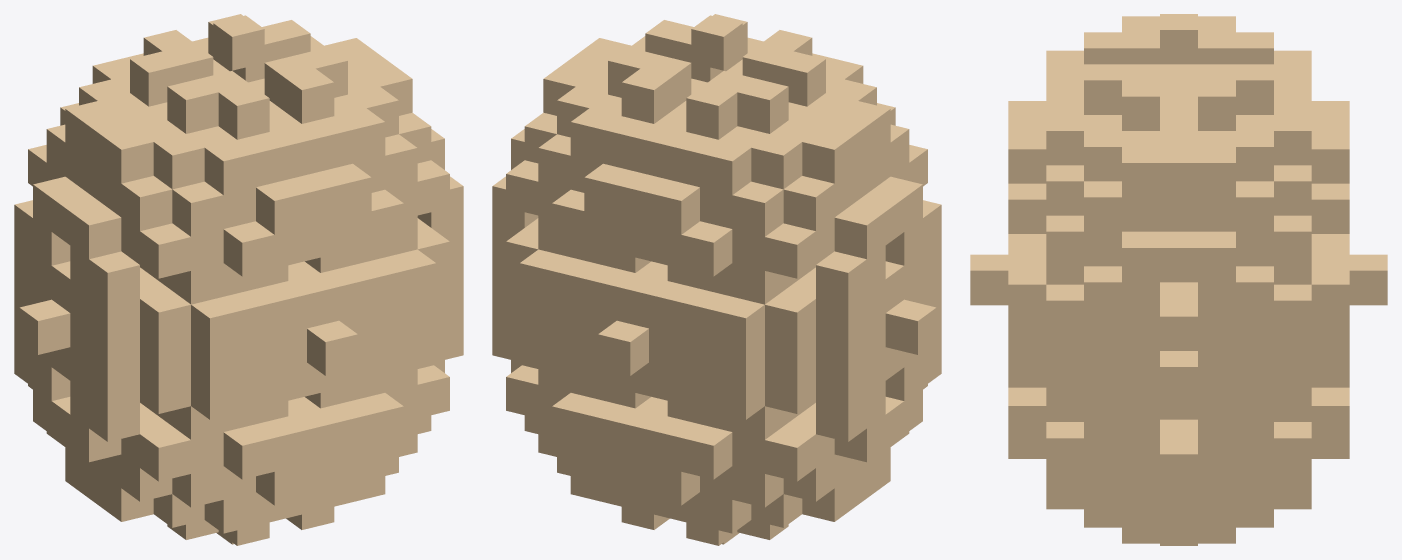
File: alien-biosphere-sponge-fungus-42d9f101__22727.glb
3 renders of one model, left to right at view 1: azimuth 30°, elevation 25°; view 2: azimuth 150°, elevation 25°; view 3: azimuth 270°, elevation 25°, orthographic.
Visible parts, largest first — view 1: sponge-fungus; view 2: sponge-fungus; view 3: sponge-fungus.
Boxes of the visible parts, x1,y1,x2,y2 form: sponge-fungus: [14, 14, 463, 545]; sponge-fungus: [492, 14, 941, 545]; sponge-fungus: [970, 14, 1387, 545].
Size of the model in its own units: 1.69 by 1.95 by 1.43.
